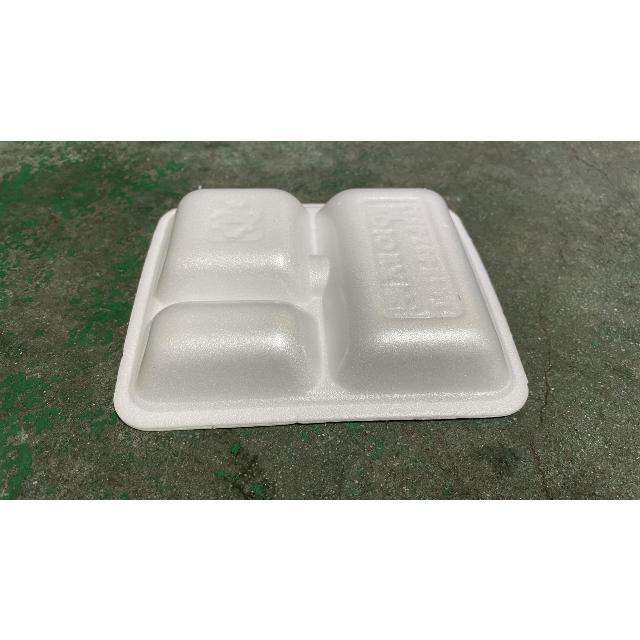Plastico descartable: (112, 189, 530, 434)
